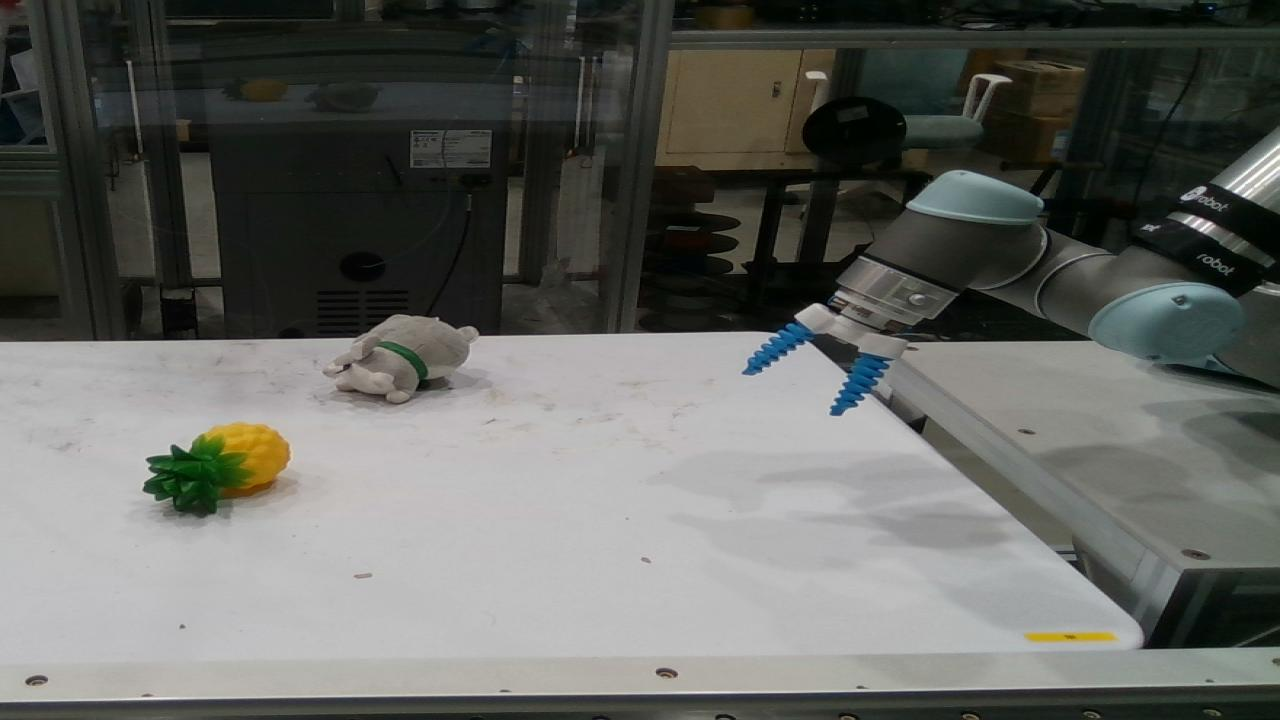UR5: (796, 166, 1278, 378)
gripper_left: (742, 322, 813, 375)
gripper_right: (832, 356, 886, 414)
target: (324, 316, 476, 404), (146, 424, 286, 514)
